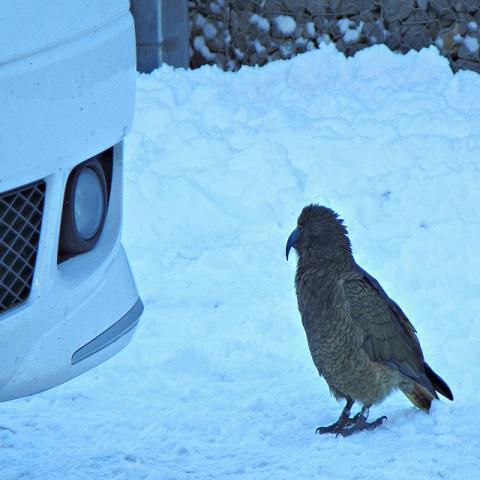bus: (0, 0, 145, 406)
